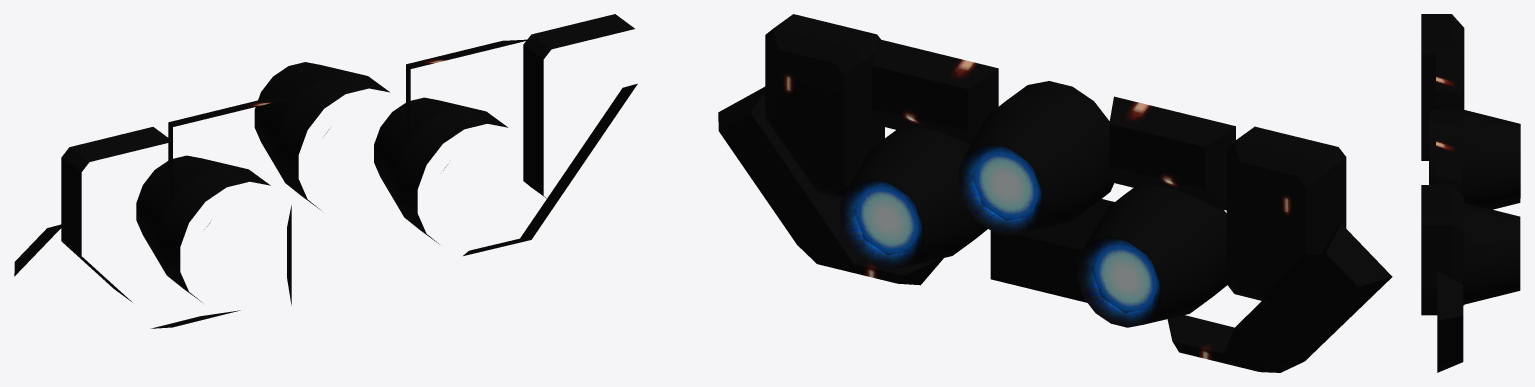
The model's file is engine_hgn_battlecruiser_02_ion_01_t3.glb.
The picture shows the model from 3 angles, left to right: view 1: azimuth 30°, elevation 25°; view 2: azimuth 150°, elevation 25°; view 3: azimuth 270°, elevation 25°; orthographic projection. The views are drawn at different scales.
Visible parts, largest first — view 1: ion_engine_bc_s_01; view 2: ion_engine_bc_s_01; view 3: ion_engine_bc_s_01.
Part boxes in pixels (bbox=[...]): ion_engine_bc_s_01: bbox=[14, 14, 637, 328]; ion_engine_bc_s_01: bbox=[718, 14, 1392, 372]; ion_engine_bc_s_01: bbox=[1421, 14, 1520, 372].
Bounding box in the file's own units: 2.48 × 0.8254 × 0.4171.
1 material, 1 textured.
